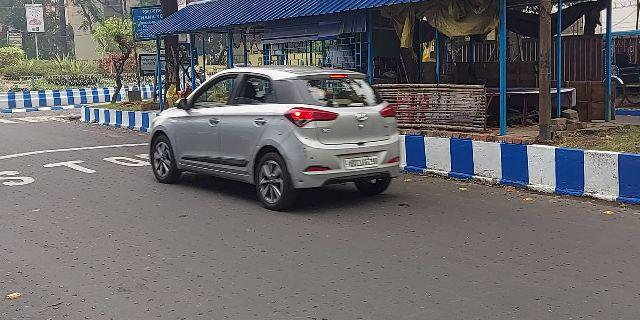Car: (150, 59, 413, 214)
